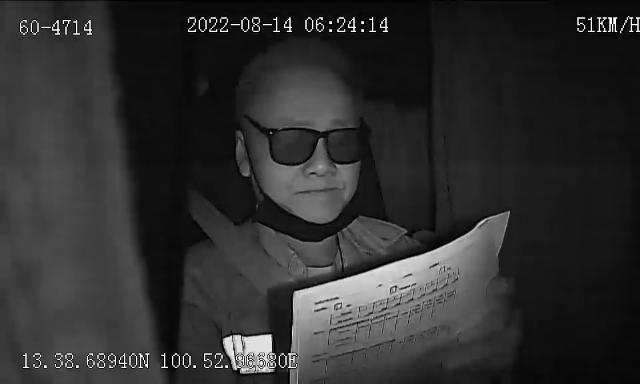Seatbelt: (183, 177, 309, 315)
